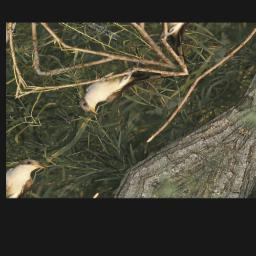Cuckoo: (70, 47, 178, 131)
